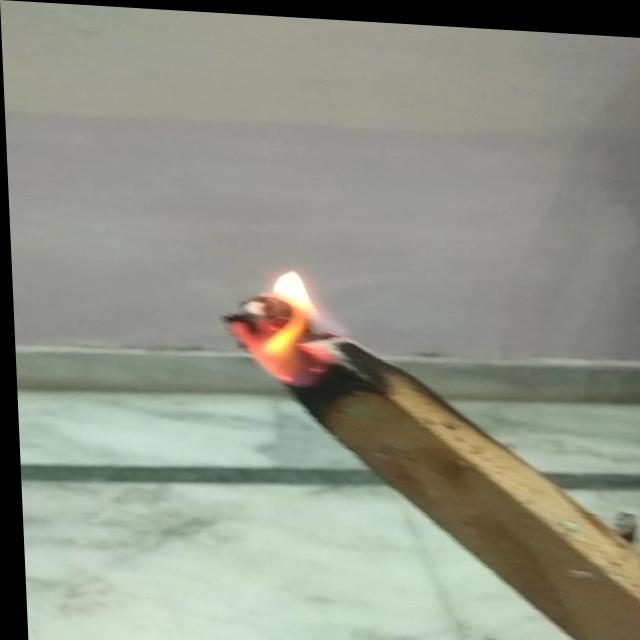fire: (209, 248, 356, 394)
